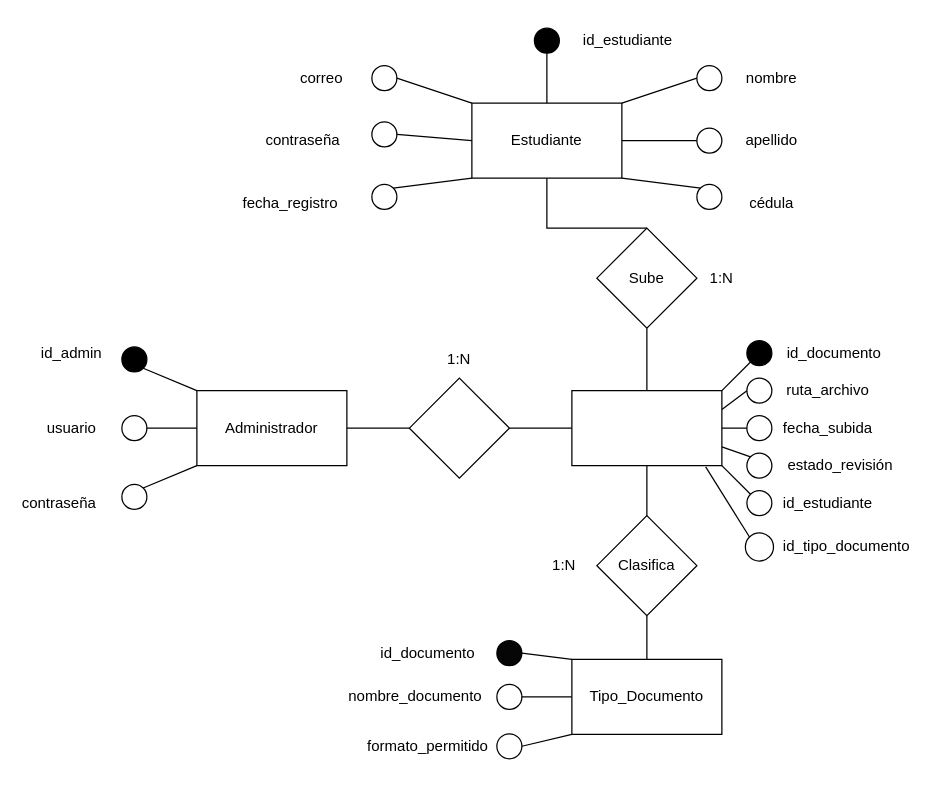
Image size: 931x786. Some labels were removed from this diagram. Each missing label, with the centre of its shape:
"Documento" belongs at point (646, 427).
"Gestiona" belongs at point (458, 427).
